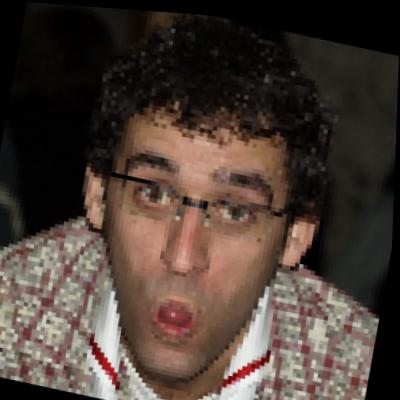surprise: (77, 89, 299, 390)
